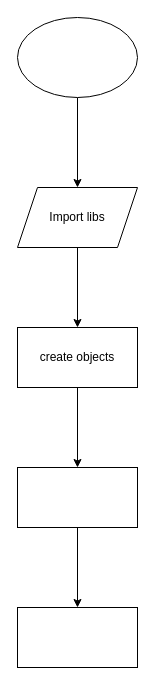
The diagram is 155 pixels wide and 685 high, and some of its shapes have lost their labels. Here are the shapes that lost their labels. From the top down, the box of each, then its label:
(16, 16, 138, 98): Start
(16, 466, 138, 528): create functions
